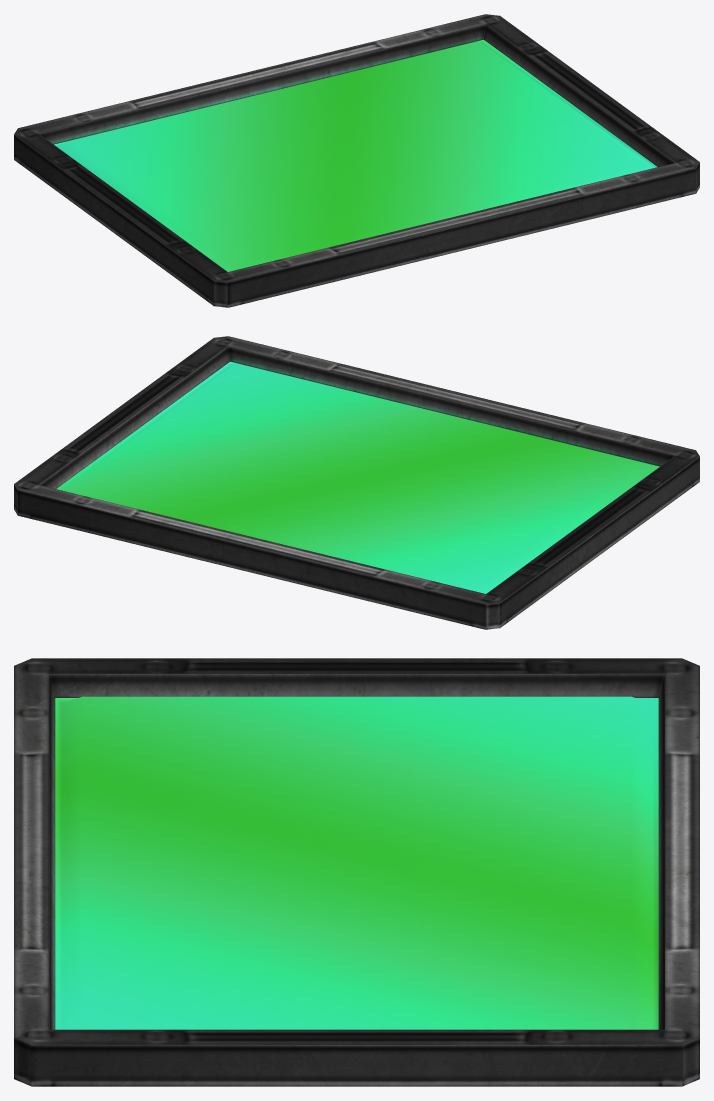
File: tablet.fbx
3 views of the same model, one above another, from view 1: azimuth 30°, elevation 25°; view 2: azimuth 150°, elevation 25°; view 3: azimuth 270°, elevation 25° (orthographic). The views are drawn at different scales.
Parts seen in each view (by area): view 1: tabletLoPoly; view 2: tabletLoPoly; view 3: tabletLoPoly.
Boxes of the visible parts, bbox=[...] form: tabletLoPoly: bbox=[14, 14, 699, 307]; tabletLoPoly: bbox=[14, 336, 699, 629]; tabletLoPoly: bbox=[14, 658, 699, 1086].
Bounding box in the file's own units: 40 × 2 × 30.
Materials: 1 (1 with a texture image).
